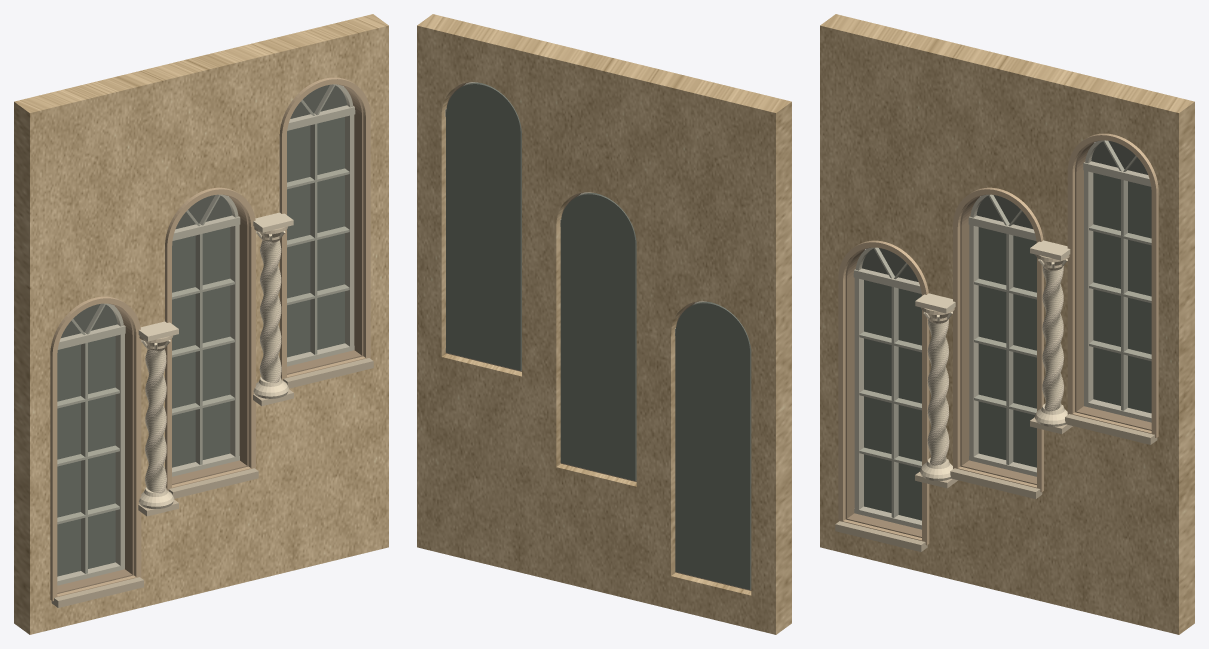
Rendered from chen-stepped-windows-near.glb.
The picture shows the model from 3 angles, left to right: view 1: azimuth 30°, elevation 25°; view 2: azimuth 150°, elevation 25°; view 3: azimuth 330°, elevation 25°; orthographic projection.
Parts seen in each view (by area): view 1: 陈氏花园住宅阶梯三拱窗与绞绳柱; view 2: 陈氏花园住宅阶梯三拱窗与绞绳柱; view 3: 陈氏花园住宅阶梯三拱窗与绞绳柱.
Boxes of the visible parts, x1,y1,x2,y2 form: 陈氏花园住宅阶梯三拱窗与绞绳柱: (14,14,388,634); 陈氏花园住宅阶梯三拱窗与绞绳柱: (417,14,791,634); 陈氏花园住宅阶梯三拱窗与绞绳柱: (820,14,1194,634).
Bounding box in the file's own units: 2.88 × 4 × 0.402.
12 materials, 1 textured.
